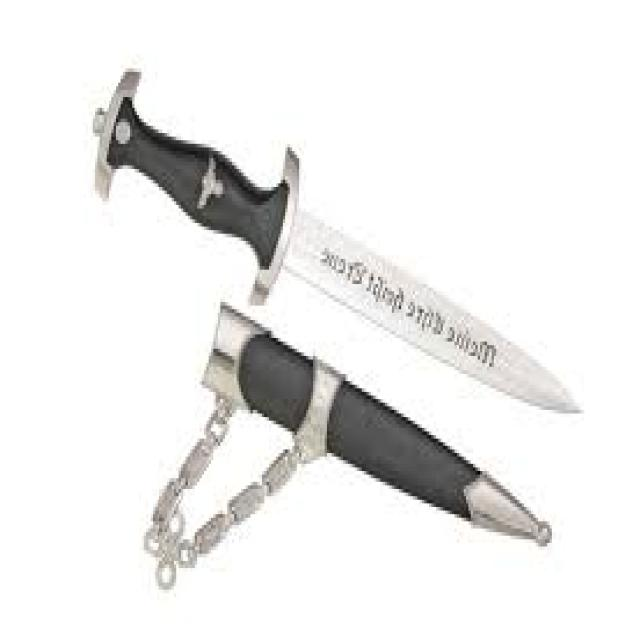Gun: (62, 49, 618, 442)
